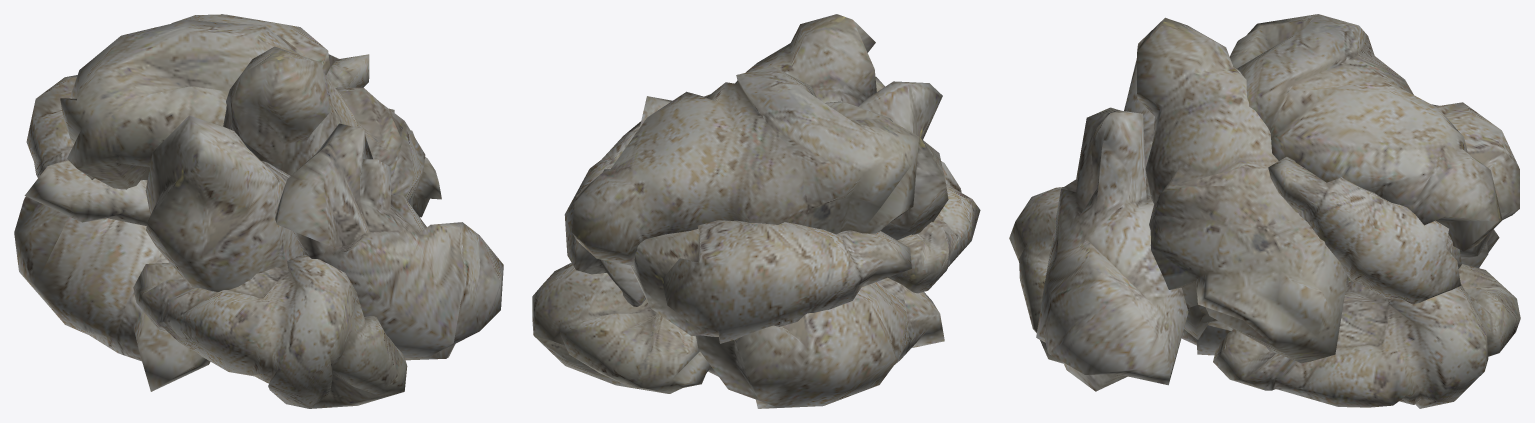
Rendered from 084_garbagemass01a.fbx.
3 views of the same model, side by side, from view 1: azimuth 30°, elevation 25°; view 2: azimuth 150°, elevation 25°; view 3: azimuth 270°, elevation 25° (orthographic). The views are drawn at different scales.
Visible parts, largest first — view 1: LOD_1_Group_0_Sub_1__sm36_084_GarbageMass01A_A_Mat; view 2: LOD_1_Group_0_Sub_1__sm36_084_GarbageMass01A_A_Mat; view 3: LOD_1_Group_0_Sub_1__sm36_084_GarbageMass01A_A_Mat.
Part boxes in pixels (left/top/right/bottom): LOD_1_Group_0_Sub_1__sm36_084_GarbageMass01A_A_Mat: left=14, top=14, right=503, bottom=408; LOD_1_Group_0_Sub_1__sm36_084_GarbageMass01A_A_Mat: left=532, top=14, right=980, bottom=408; LOD_1_Group_0_Sub_1__sm36_084_GarbageMass01A_A_Mat: left=1009, top=14, right=1520, bottom=408.
Size of the model in its own units: 0.257 by 0.2138 by 0.3062.
